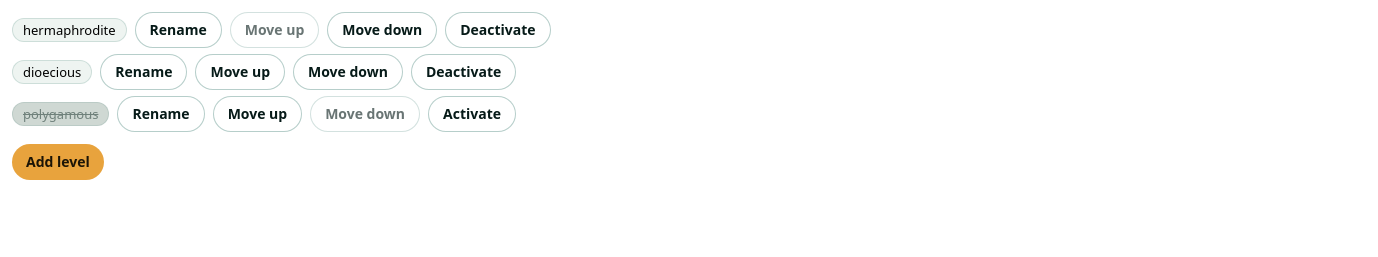
Test case: RFC-62 R6 LevelsEditor › shows the generic sentence when a toggle fails
Click the button with aria-label "Deactivate dioecious" at (464, 72), box left=411, top=54, right=516, bottom=90
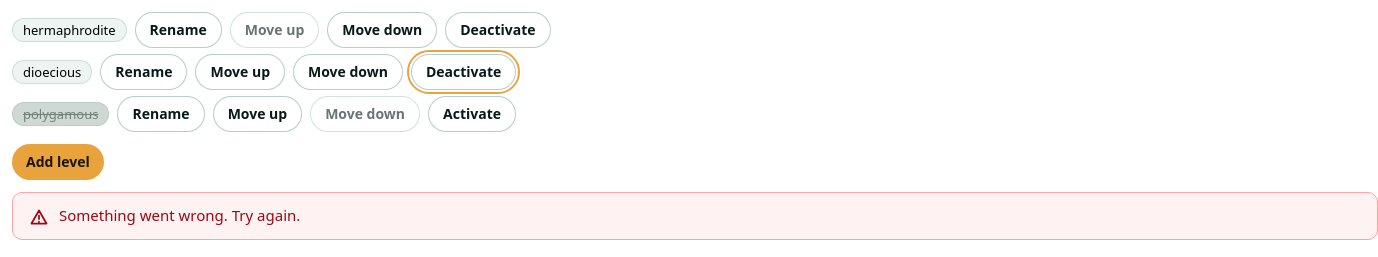
Now the message reads "Something went wrong. Try again.", box left=59, top=205, right=300, bottom=225
